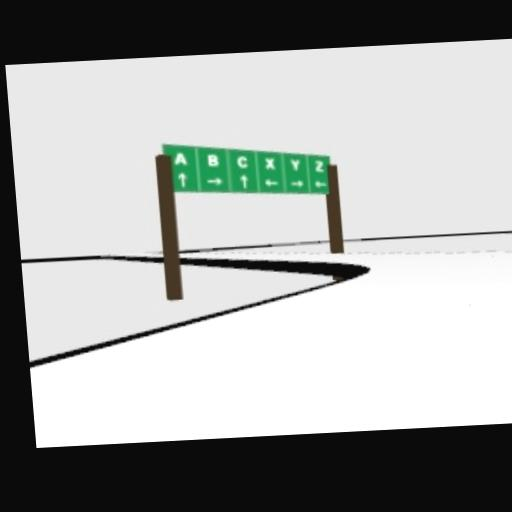A: (173, 151, 186, 164)
B: (206, 152, 219, 165)
C: (235, 154, 248, 168)
Left: (263, 177, 279, 185), (313, 178, 327, 186)
Right: (205, 175, 222, 184), (290, 178, 304, 185)
Straight: (238, 173, 247, 188), (177, 171, 186, 186)
X: (263, 156, 274, 168)
Y: (288, 156, 301, 169)
Z: (313, 158, 324, 170)
